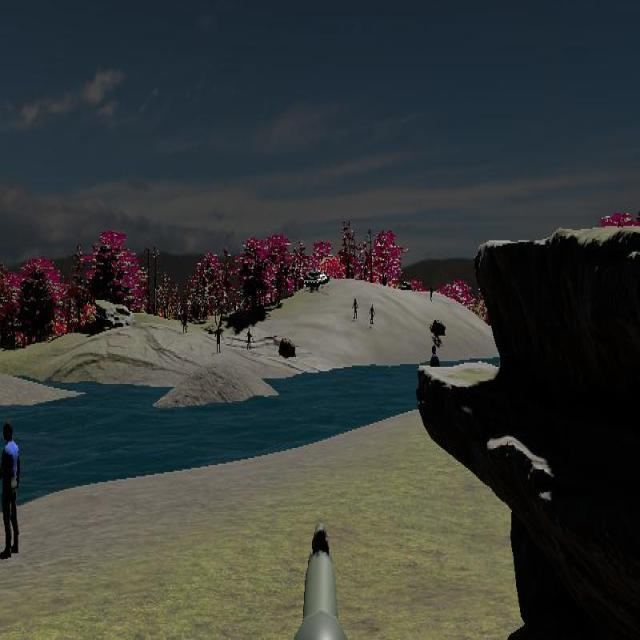Human: (0, 422, 21, 560)
